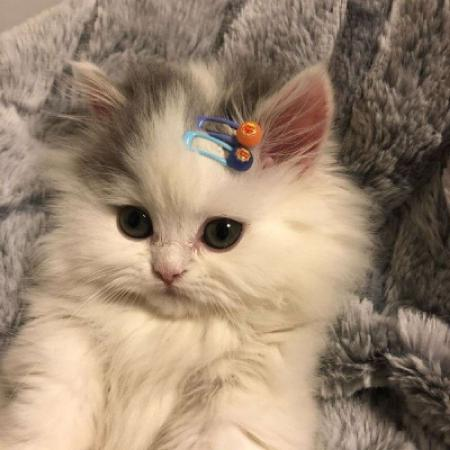cat: (36, 53, 354, 354)
